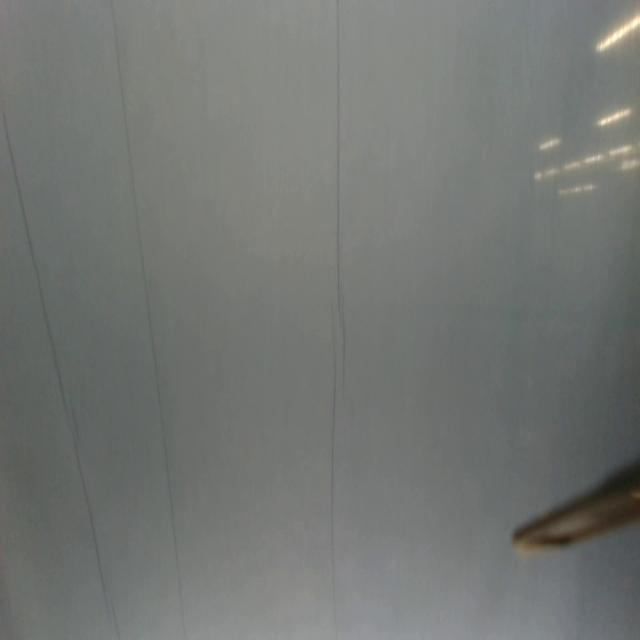crease: (1, 112, 122, 637), (110, 0, 188, 635), (334, 0, 350, 389), (328, 300, 337, 639)
